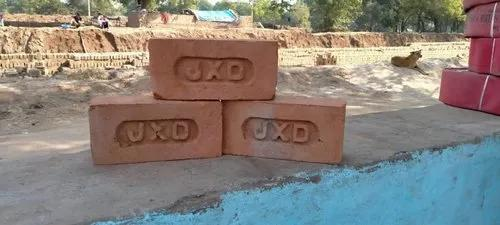brick: (89, 101, 222, 166), (150, 39, 277, 100), (221, 101, 342, 164)
